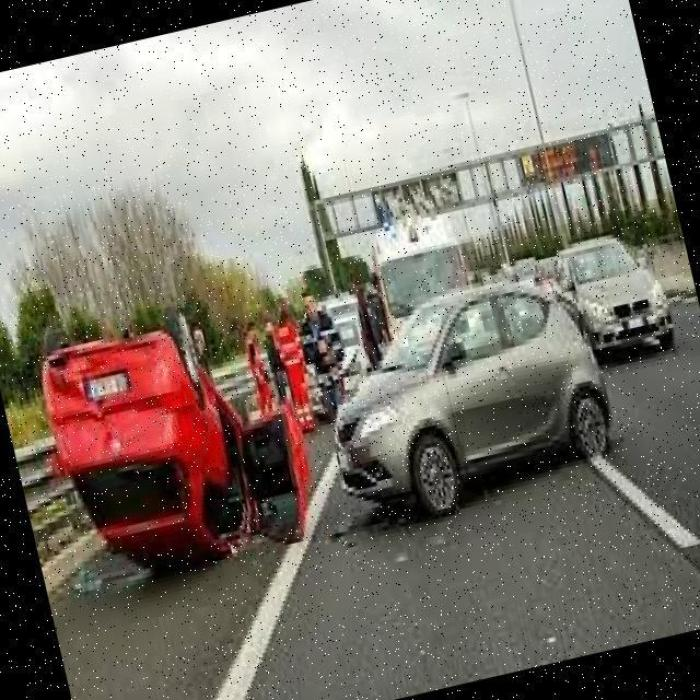Accident: (9, 258, 348, 644)
